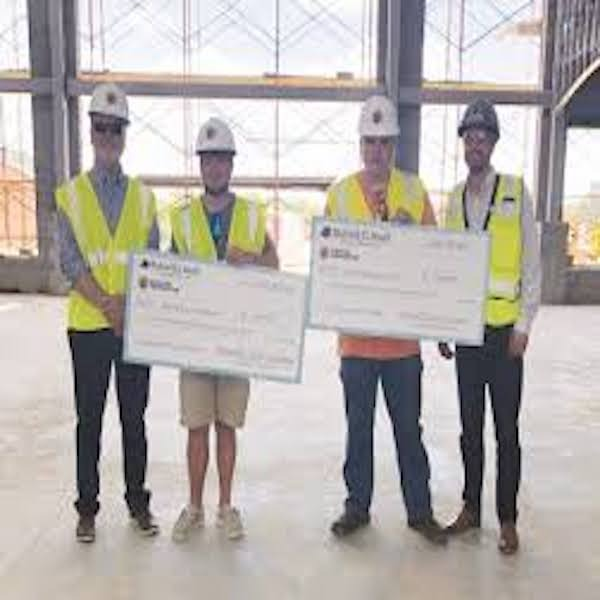helmet: (358, 95, 408, 144), (87, 78, 138, 124), (193, 116, 244, 153)
vest: (71, 176, 157, 327), (451, 175, 529, 335), (167, 196, 274, 271), (328, 169, 436, 229)
